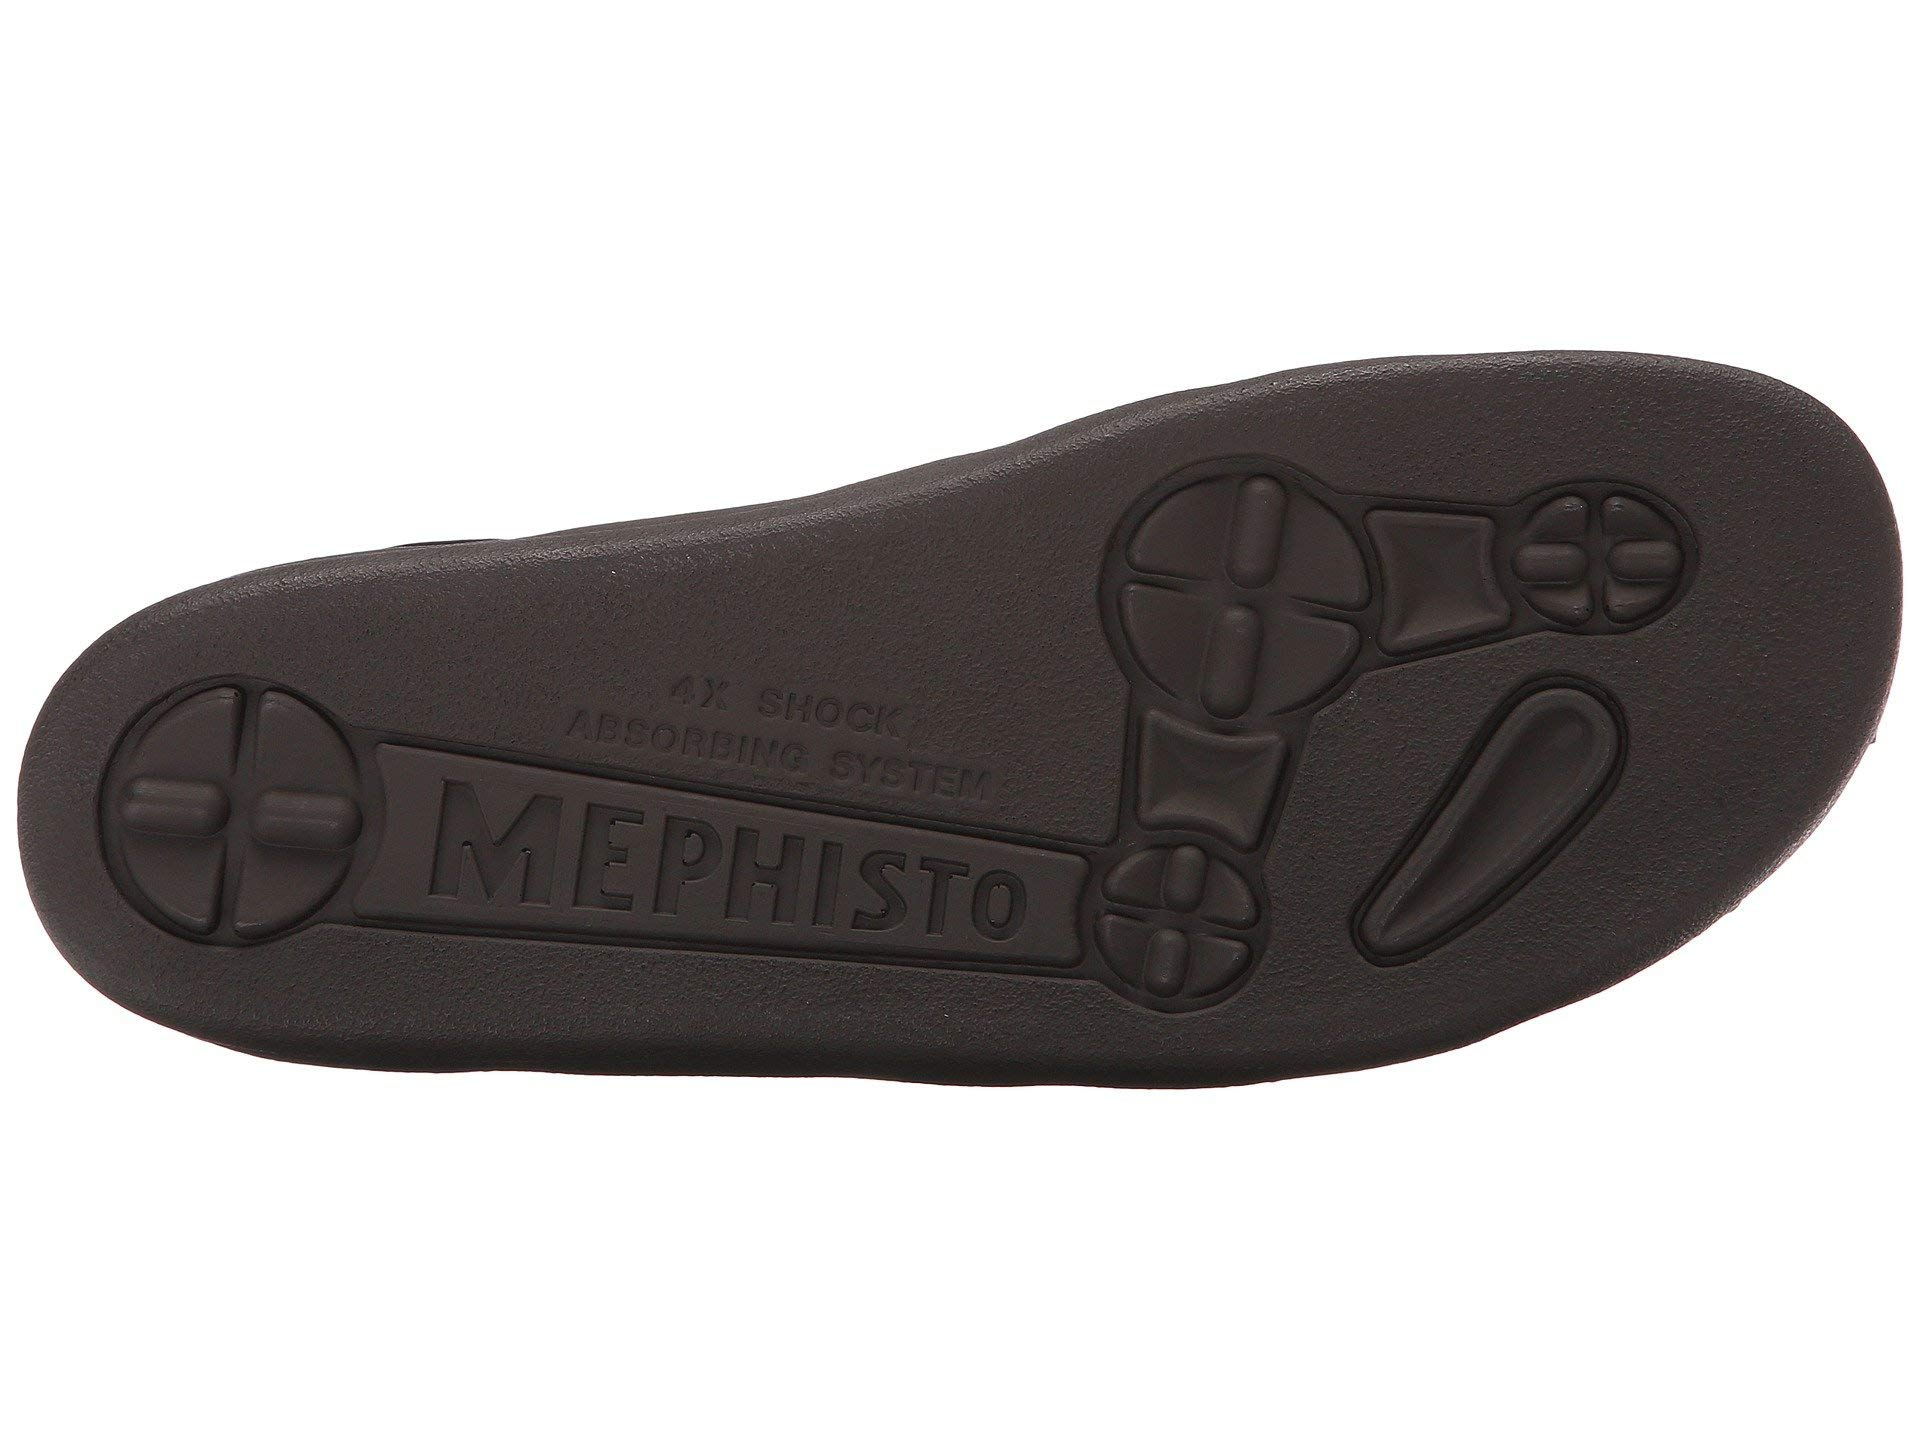circle: (343, 641, 1113, 1082), (1092, 442, 1538, 858)
quad: (343, 641, 1113, 1082), (1092, 442, 1538, 858)
text: (343, 641, 1113, 1082)
